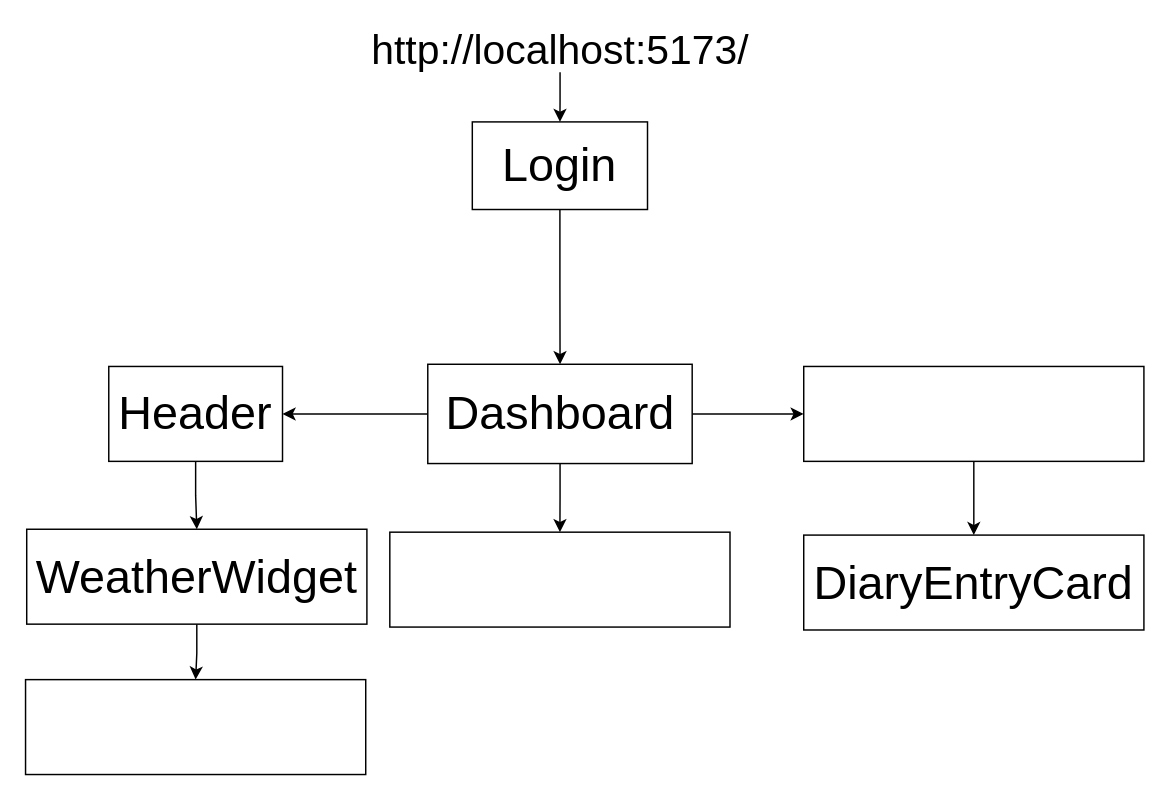
This 1169x800 diagram has some shape labels left out. The shapes that lost their labels are listed below. From the top down, each one's centre as x and y in pixels, then its label:
[973,413]: DiaryList
[559,579]: NewEntryForm
[195,726]: WeatherCard
